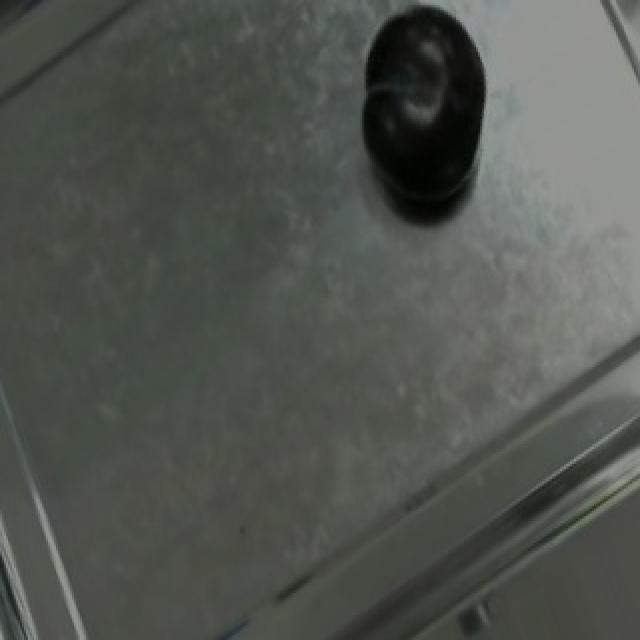Fruit: (344, 0, 506, 218)
